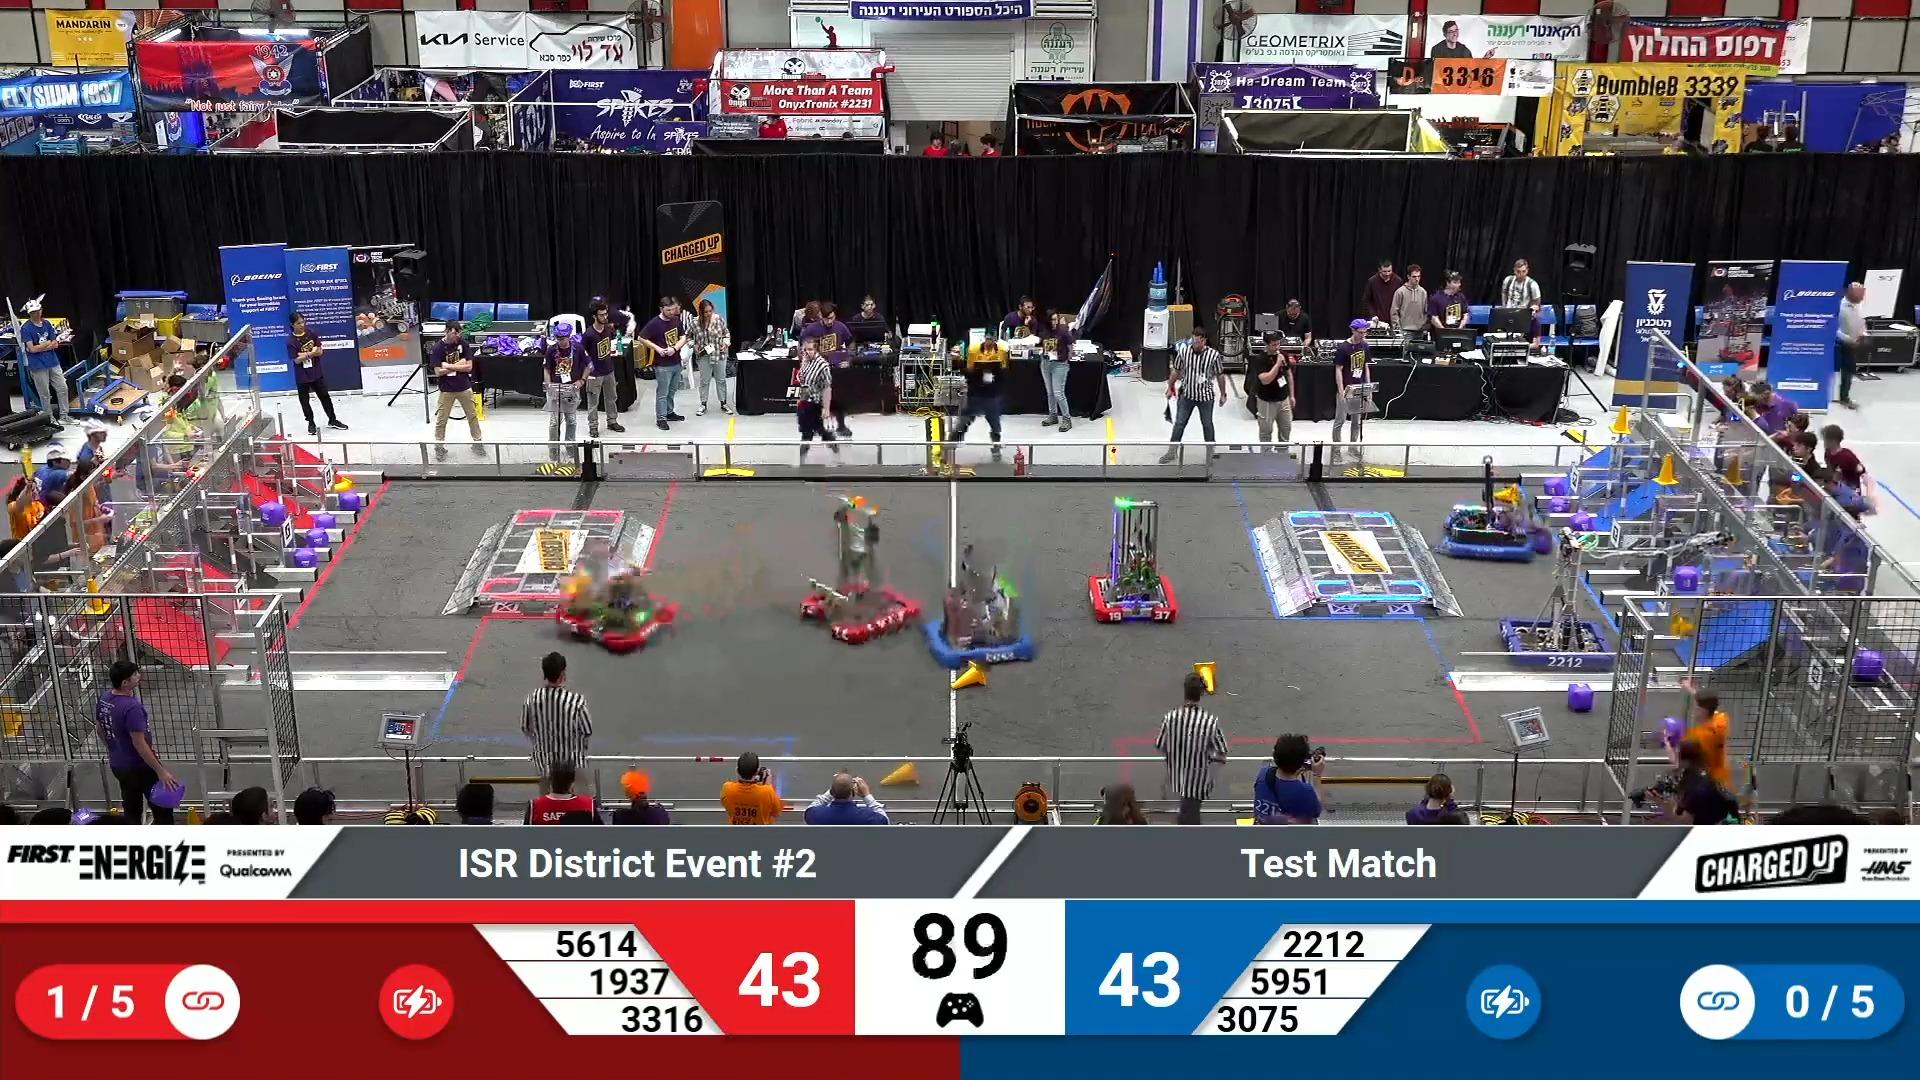robot: (796, 498, 920, 638), (1501, 527, 1615, 669), (927, 541, 1035, 667), (555, 549, 678, 651), (1433, 455, 1545, 562), (1087, 496, 1178, 625)
